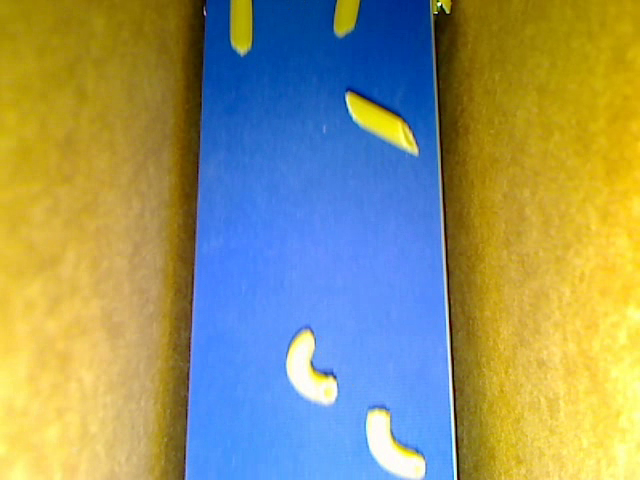elbow: (366, 407, 426, 479), (285, 327, 339, 404)
penne: (345, 90, 419, 157), (230, 1, 252, 57), (333, 1, 359, 39)
